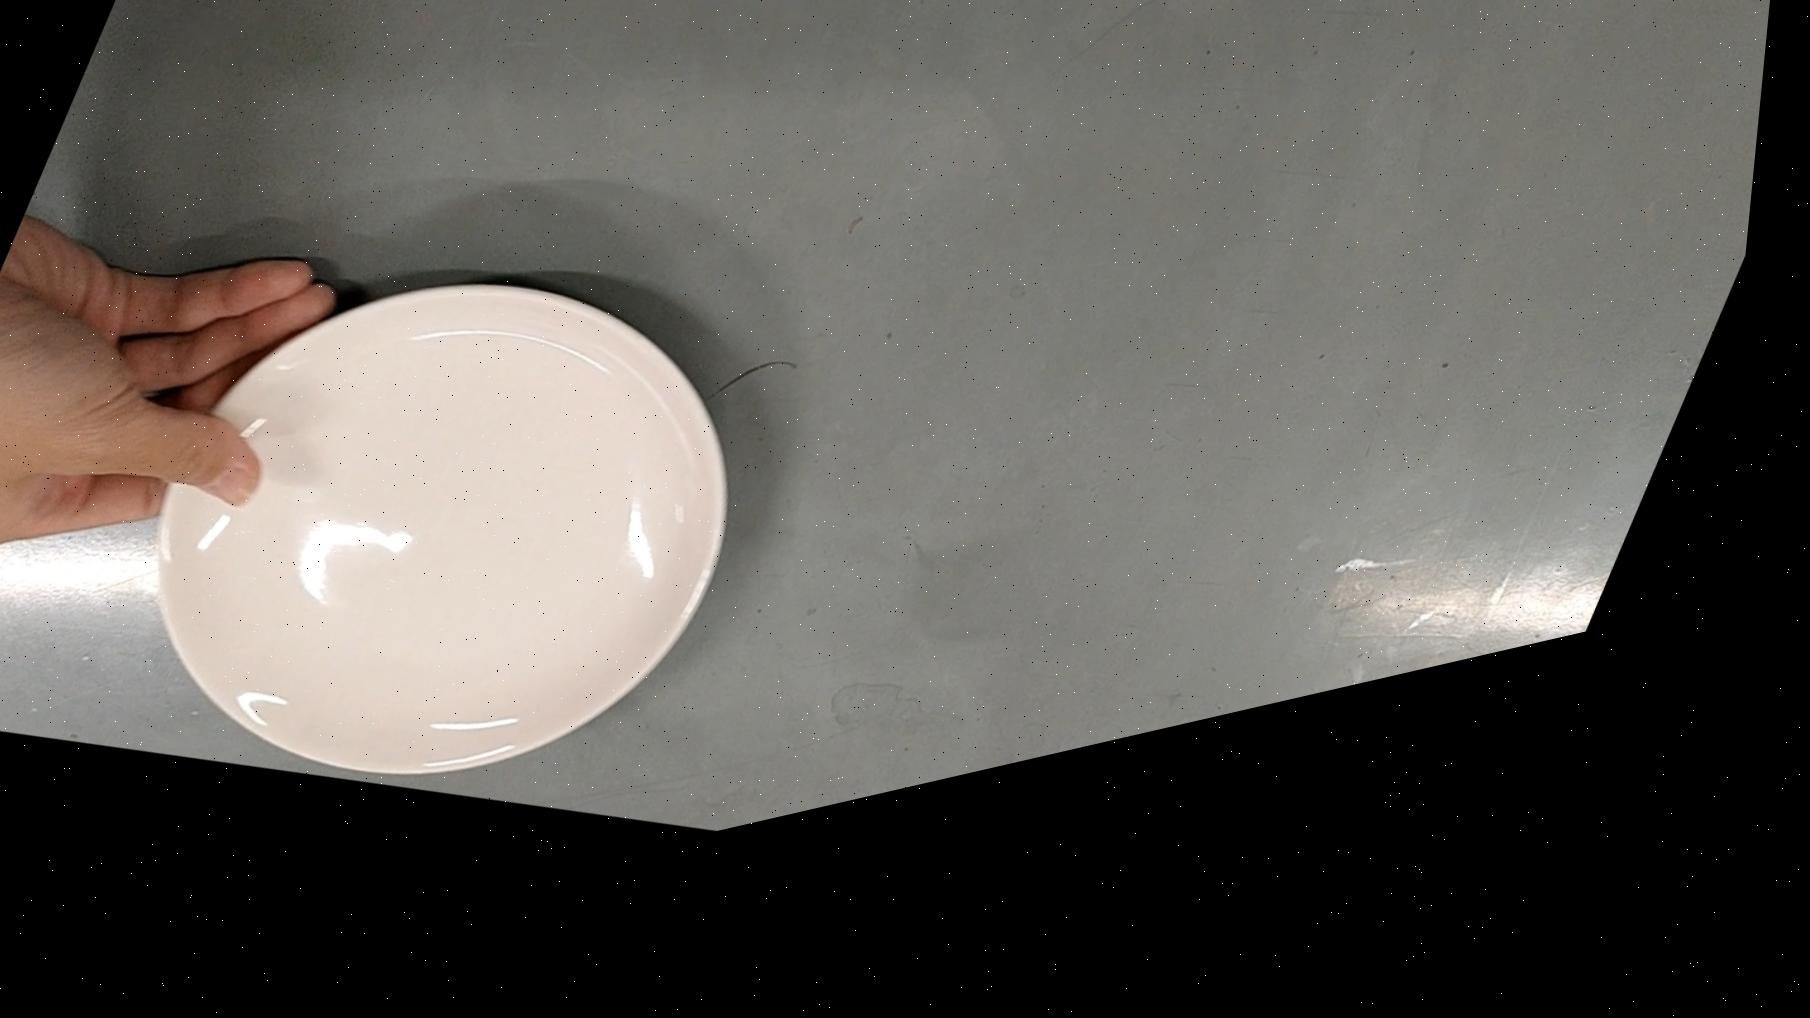plate: (61, 163, 840, 945)
